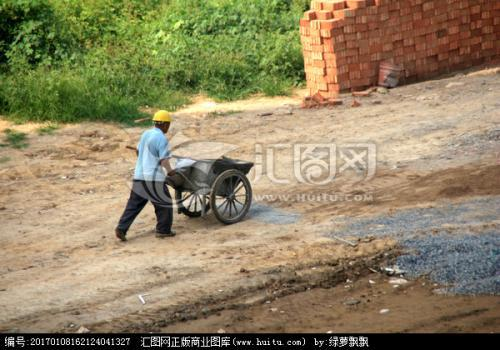helmet: (147, 107, 175, 137)
